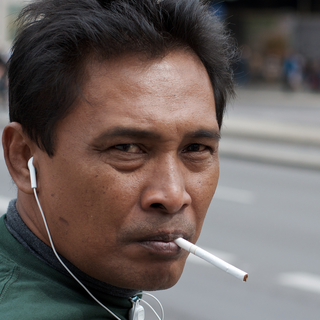eye: (100, 138, 152, 161), (175, 136, 216, 162)
